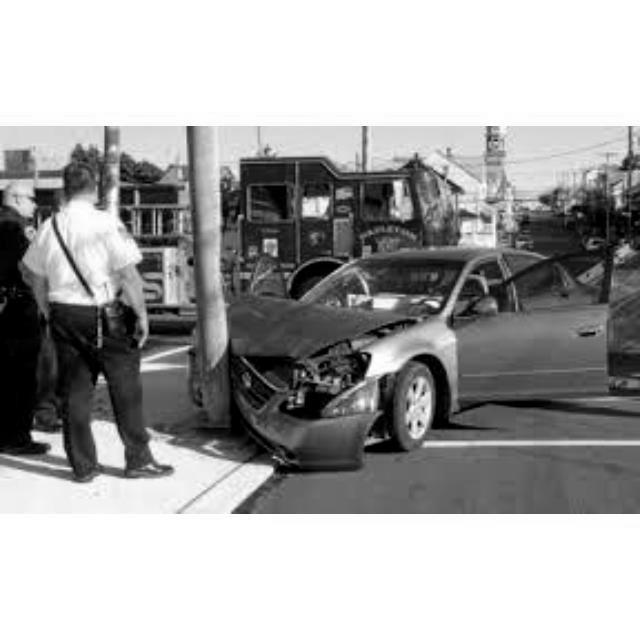bonnet-dent: (220, 277, 386, 357)
front-bumper-dent: (232, 373, 367, 453)
